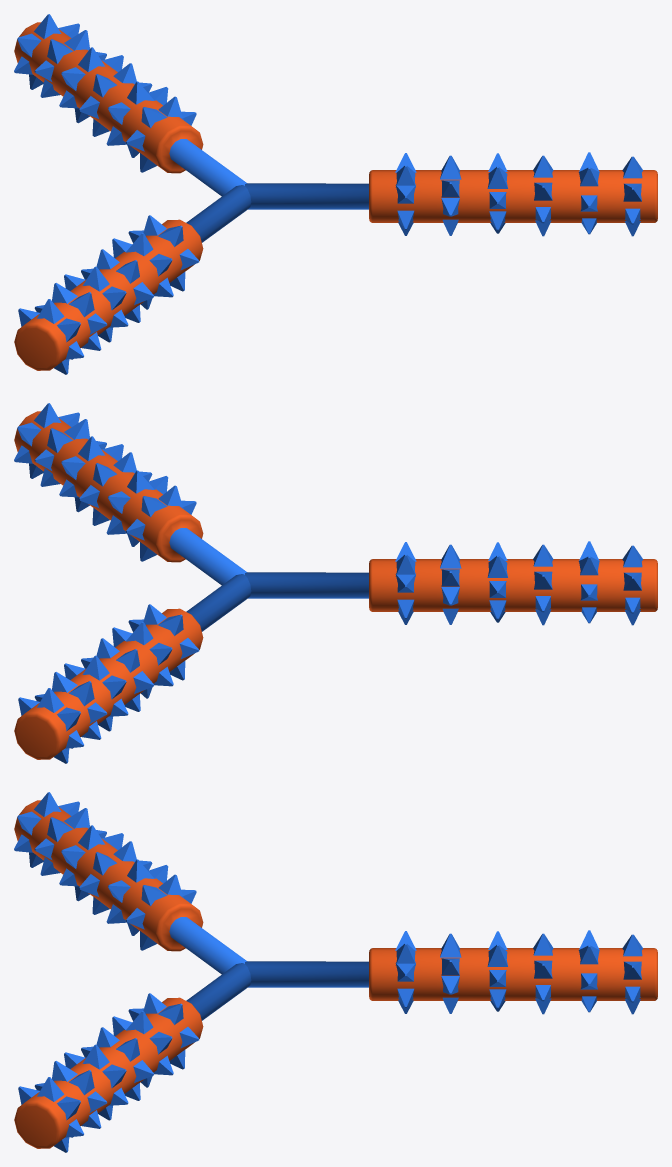
Rendered from propeller.fbx.
3 views of the same model, one above another, from view 1: azimuth 30°, elevation 25°; view 2: azimuth 150°, elevation 25°; view 3: azimuth 270°, elevation 25° (orthographic).
Parts seen in each view (by area): view 1: propeller; view 2: propeller; view 3: propeller.
Part boxes in pixels (x1,y1,x2,y2): propeller: (14,14,657,374); propeller: (14,403,657,763); propeller: (14,792,657,1152).
Size of the model in its own units: 12.96 by 1.46 by 11.25.
